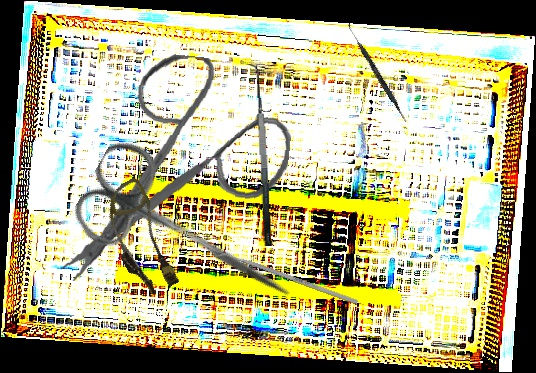Cannula: (89, 176, 192, 301)
Iris Scissors: (59, 44, 299, 303), (64, 133, 317, 337)
Pusher: (208, 246, 359, 305)
Spatula Surgical: (344, 23, 410, 123), (242, 63, 273, 247)
